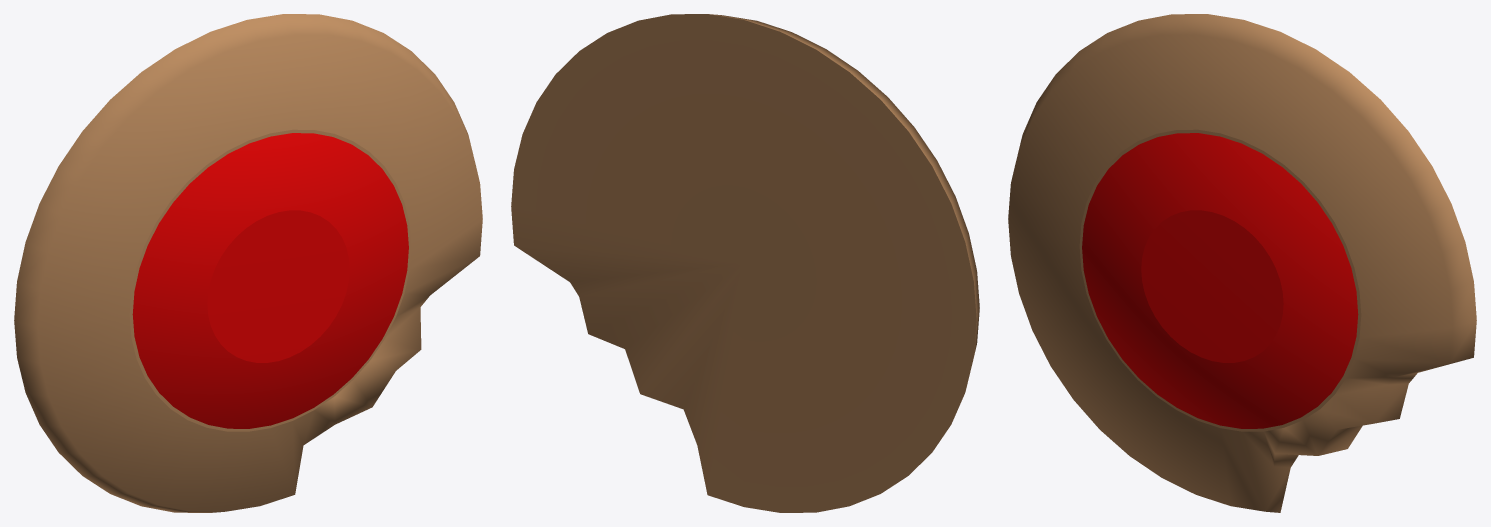
File: Cookie.fbx
The picture shows the model from 3 angles, left to right: view 1: azimuth 30°, elevation 25°; view 2: azimuth 150°, elevation 25°; view 3: azimuth 330°, elevation 25°; orthographic projection.
Visible parts, largest first — view 1: pCylinder3; view 2: pCylinder3; view 3: pCylinder3.
Part boxes in pixels (box(x1,y1,x2,y2)): pCylinder3: box(14, 14, 482, 512); pCylinder3: box(511, 14, 979, 512); pCylinder3: box(1008, 14, 1476, 512).
Bounding box in the file's own units: 100 × 100 × 12.03.
